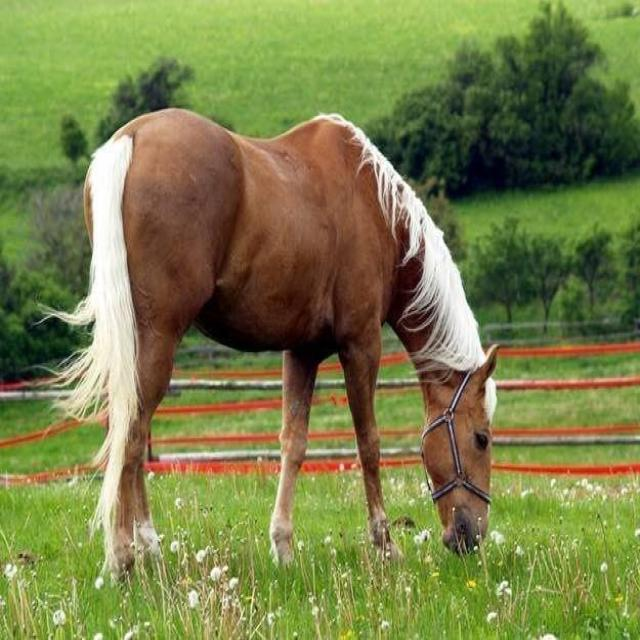horse: (32, 105, 500, 587)
